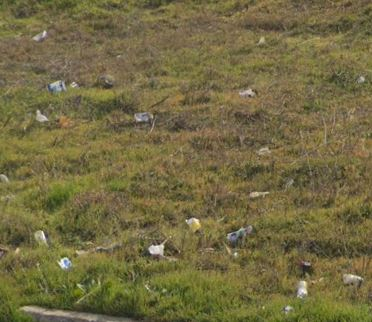trash: (221, 220, 257, 248), (45, 77, 80, 96), (144, 239, 168, 259), (182, 213, 205, 233), (33, 228, 52, 252), (25, 27, 53, 42), (132, 111, 161, 125), (294, 279, 309, 301), (32, 108, 52, 124), (56, 257, 75, 271)
